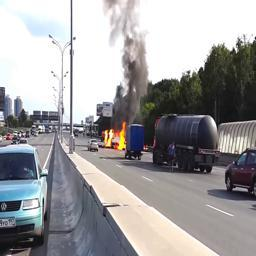fire: (103, 120, 125, 150)
